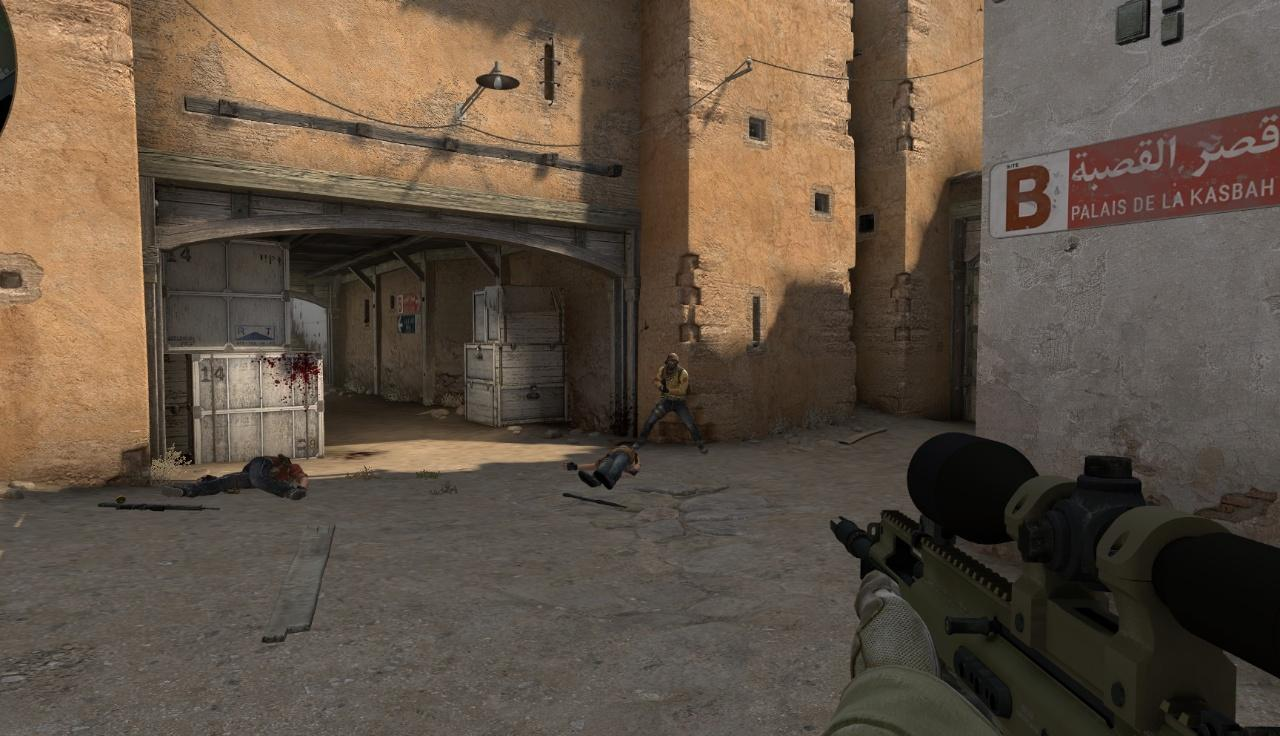sniper: (829, 432, 1280, 736)
tt: (651, 354, 693, 450)
tthead: (666, 354, 678, 370)
